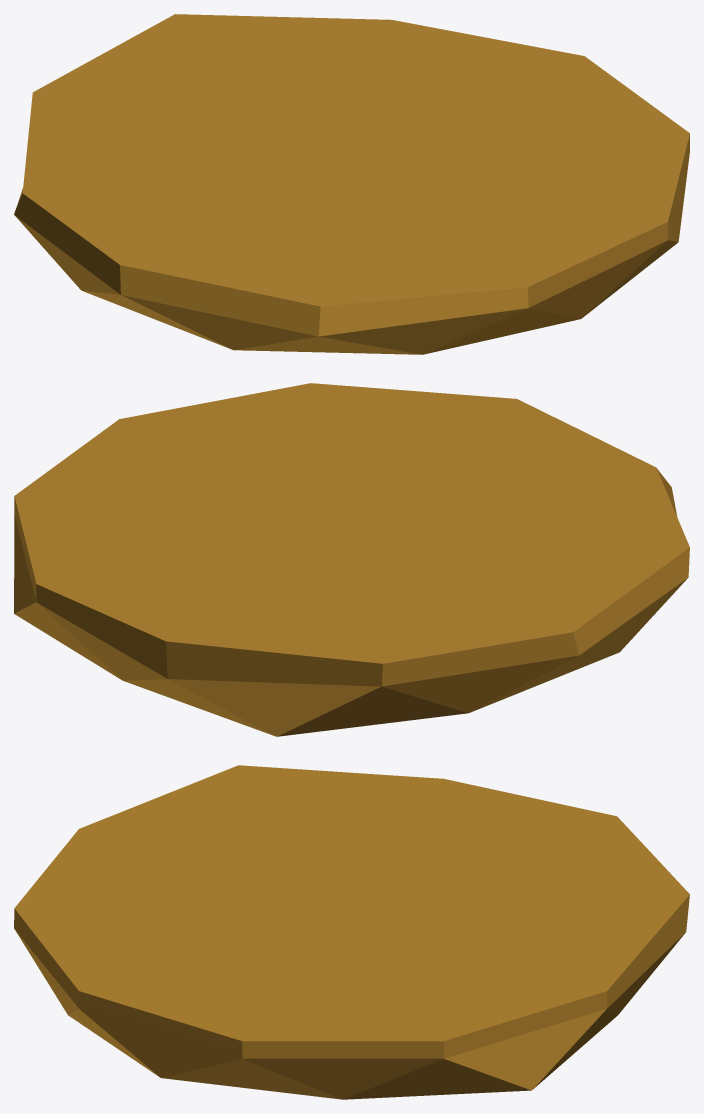
Rendered from lower bread.fbx.
The picture shows the model from 3 angles, top to bottom: view 1: azimuth 30°, elevation 25°; view 2: azimuth 150°, elevation 25°; view 3: azimuth 270°, elevation 25°; orthographic projection. The views are drawn at different scales.
Visible parts, largest first — view 1: BurgerLarge; view 2: BurgerLarge; view 3: BurgerLarge.
Part boxes in pixels (x1,y1,x2,y2): BurgerLarge: (14,14,689,354); BurgerLarge: (14,383,689,736); BurgerLarge: (14,765,689,1099).
Bounding box in the file's own units: 41.76 × 9.92 × 44.68.
